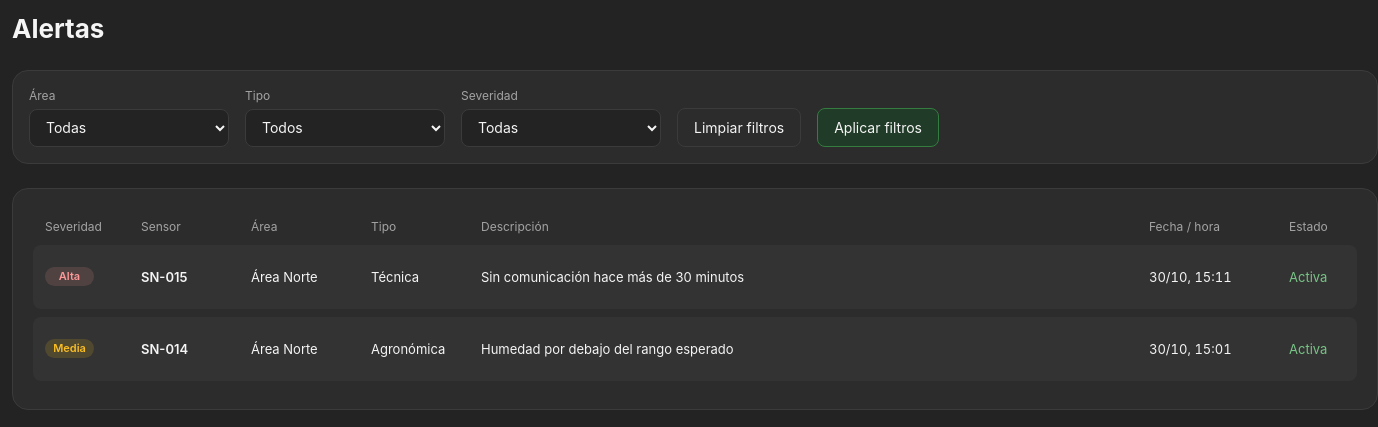
AlertasPage › un área sin alertas activas lo dice y permite limpiar el filtro
Select "Área Oeste" in the dropdown labelled "Área" at (129, 128), box 29,109 -> 229,147
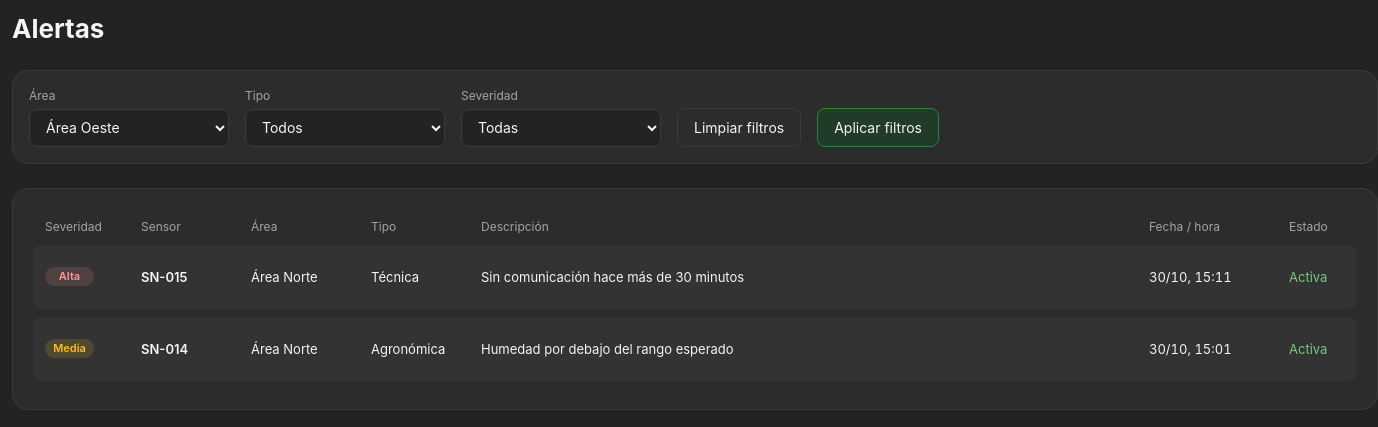
Click the button "Aplicar filtros" at (878, 127), box 817,108 -> 939,147
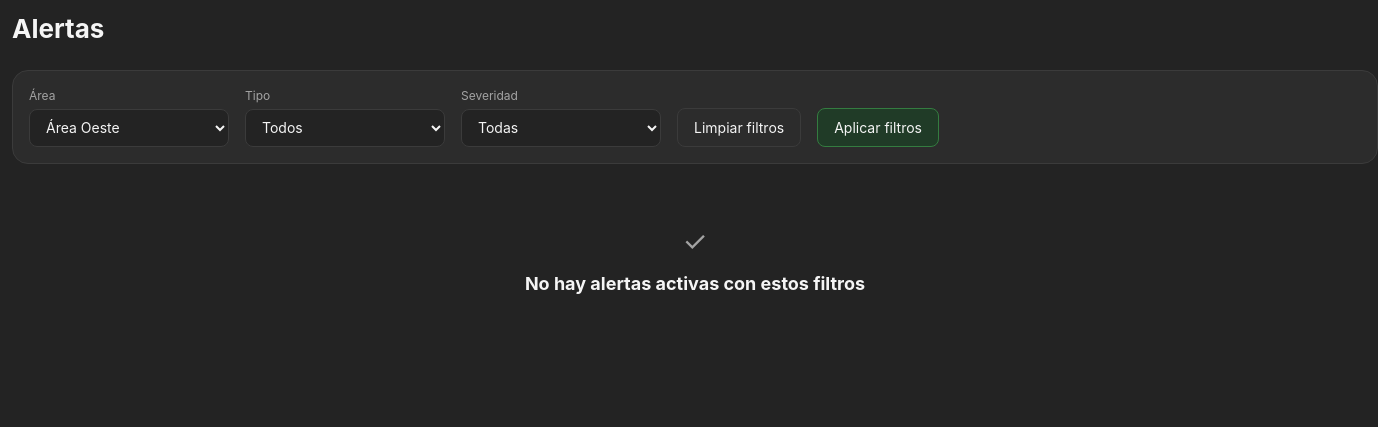
Check: the heading "No hay alertas activas con estos filtros" is shown, box 525,270 -> 865,297
Click the button "Limpiar filtros" at (739, 127), box 677,108 -> 801,147
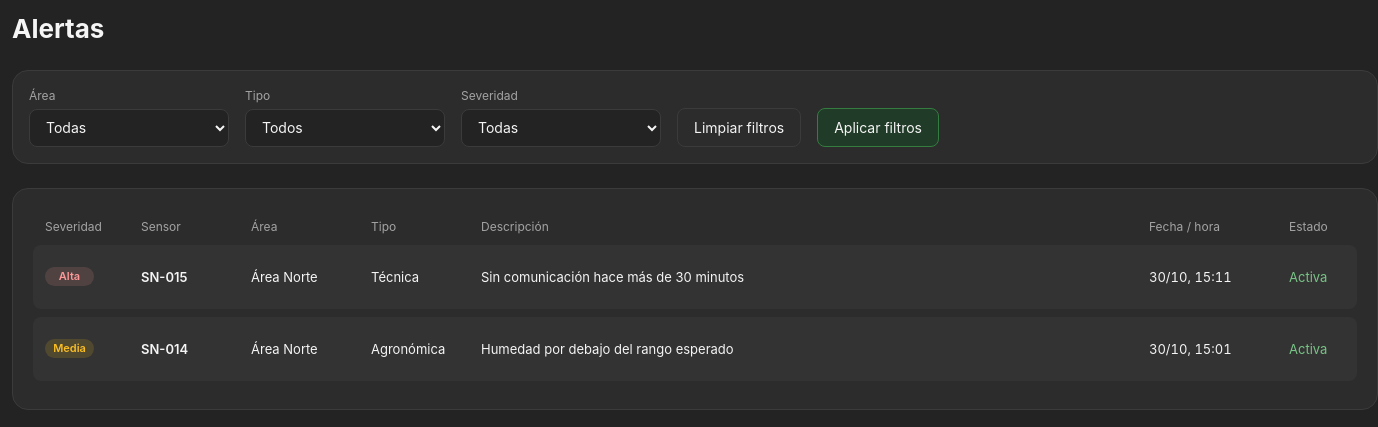
Check: the number of links is 2, box 141,269 -> 187,285; 141,341 -> 188,357
